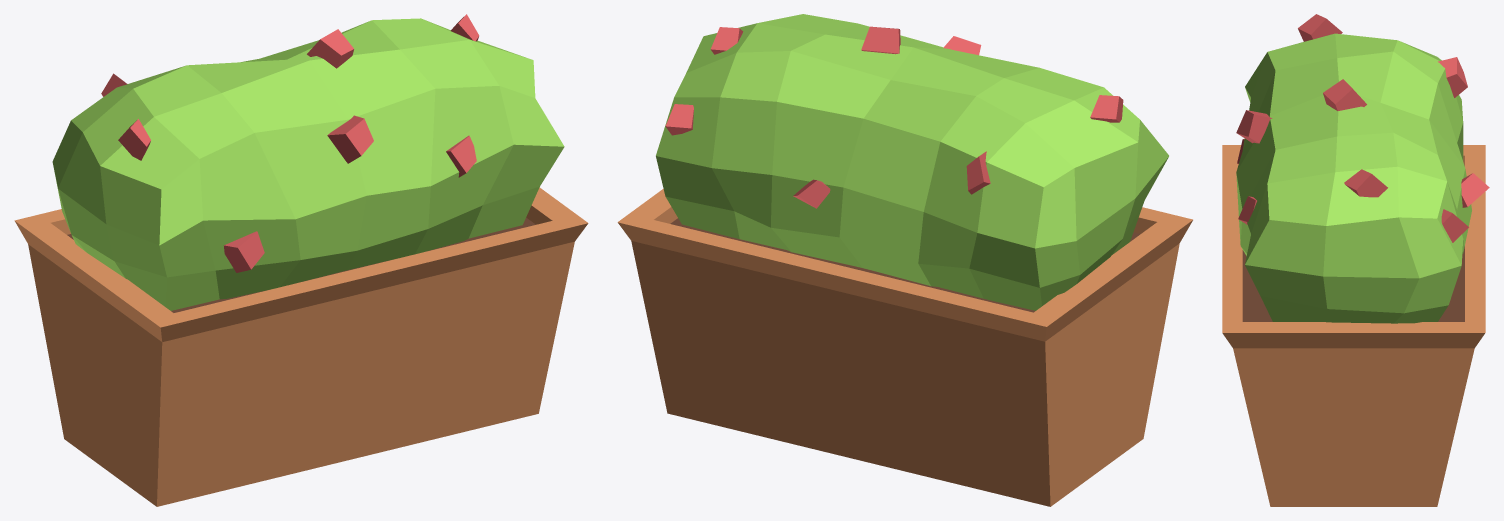
File: MacetaLargaConPlantas.fbx
The picture shows the model from 3 angles, left to right: view 1: azimuth 30°, elevation 25°; view 2: azimuth 150°, elevation 25°; view 3: azimuth 270°, elevation 25°; orthographic projection. The views are drawn at different scales.
Parts seen in each view (by area): view 1: Maceton, Cube, Cube.001, Cube.004, Cube.003, Cube.005, Cube.002; view 2: Maceton, Cube, Cube.003, Cube.005, Cube.007, Cube.009, Cube.008; view 3: Cube, Maceton, Cube.003, Cube.001, Cube.006, Cube.005, Cube.009, Cube.008, Cube.007.
Boxes of the visible parts, x1=… form: Maceton: x1=14, y1=187, x2=588, y2=506; Cube: x1=52, y1=18, x2=564, y2=310; Cube.001: x1=327, y1=115, x2=373, y2=163; Cube.004: x1=224, y1=231, x2=264, y2=272; Cube.003: x1=307, y1=29, x2=353, y2=68; Cube.005: x1=118, y1=119, x2=150, y2=160; Cube.002: x1=446, y1=135, x2=476, y2=177; Maceton: x1=617, y1=189, x2=1192, y2=506; Cube: x1=656, y1=14, x2=1168, y2=310; Cube.003: x1=861, y1=26, x2=900, y2=54; Cube.005: x1=1090, y1=95, x2=1123, y2=122; Cube.007: x1=665, y1=104, x2=693, y2=135; Cube.009: x1=966, y1=151, x2=990, y2=194; Cube.008: x1=793, y1=179, x2=830, y2=208; Cube: x1=1236, y1=33, x2=1471, y2=323; Maceton: x1=1222, y1=145, x2=1485, y2=506; Cube.003: x1=1323, y1=79, x2=1366, y2=110; Cube.001: x1=1236, y1=110, x2=1272, y2=143; Cube.006: x1=1344, y1=169, x2=1387, y2=197; Cube.005: x1=1298, y1=14, x2=1342, y2=41; Cube.009: x1=1438, y1=57, x2=1467, y2=97; Cube.008: x1=1461, y1=173, x2=1489, y2=207; Cube.007: x1=1441, y1=209, x2=1468, y2=242.
Bounding box in the file's own units: 75.55 × 64.8 × 44.87.
